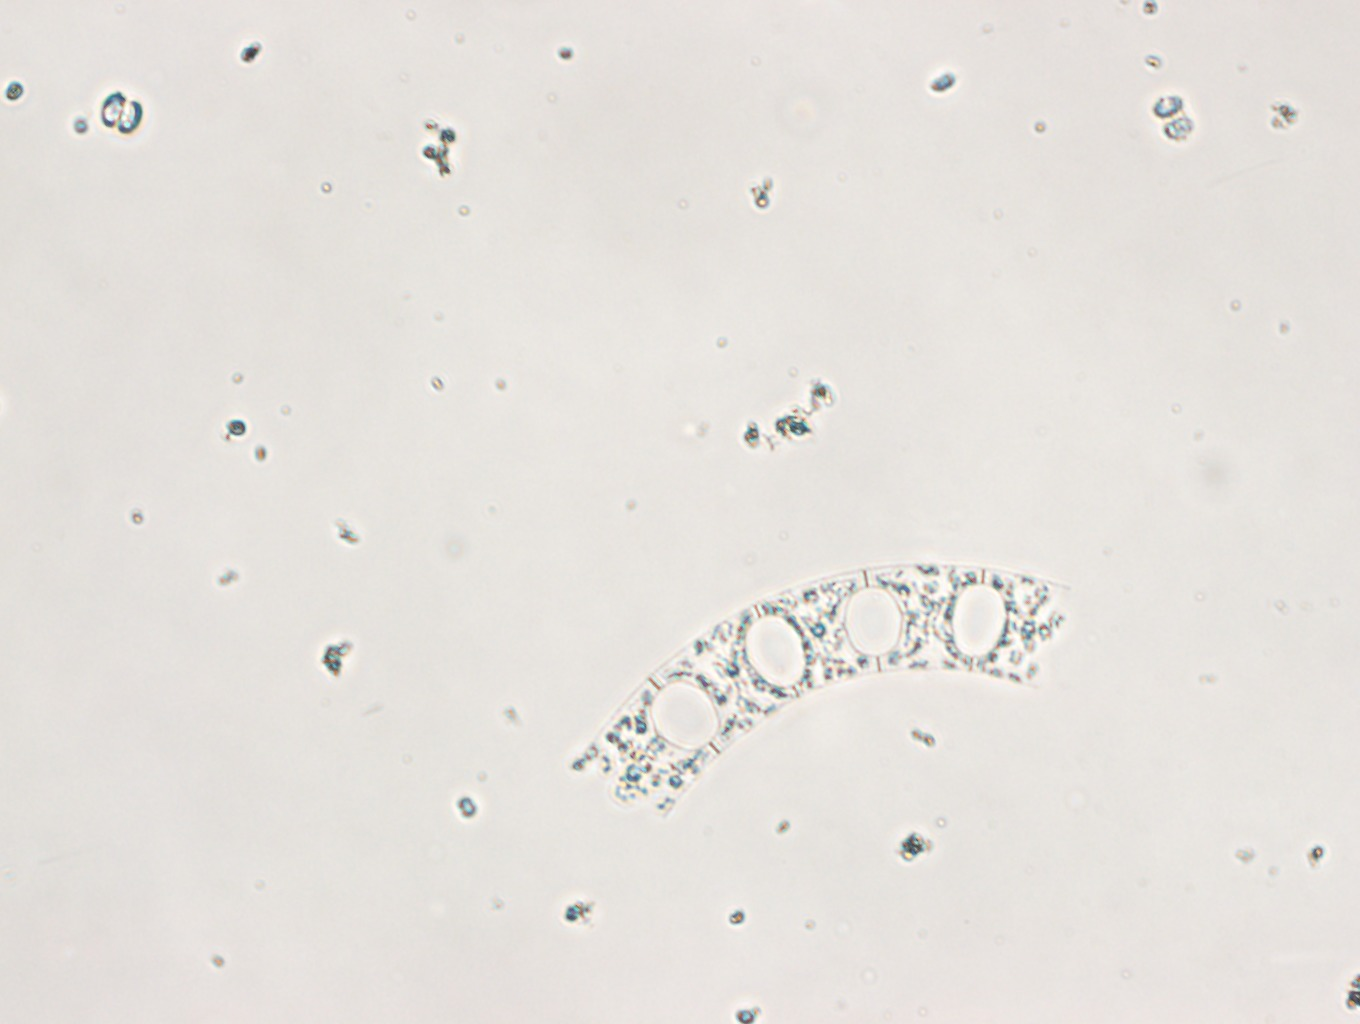eucampia: (579, 565, 1082, 833)
